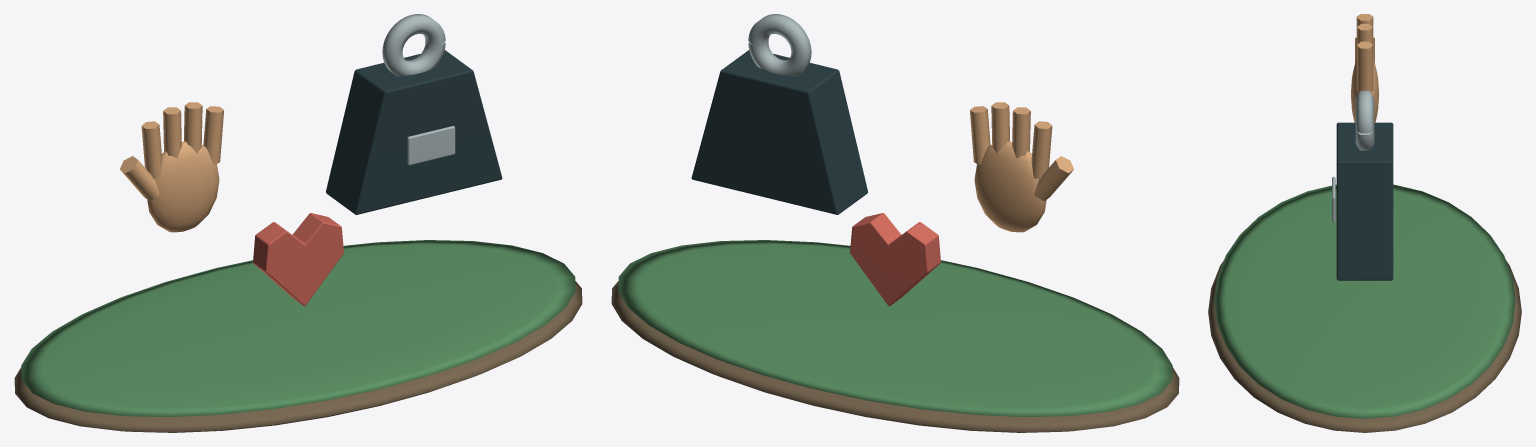
File: complete-first-effort-lift.glb
The picture shows the model from 3 angles, left to right: view 1: azimuth 30°, elevation 25°; view 2: azimuth 150°, elevation 25°; view 3: azimuth 270°, elevation 25°; orthographic projection. The views are drawn at different scales.
Parts seen in each view (by area): view 1: complete-first-effort-lift_surface_01, complete-first-effort-lift_surface_03, complete-first-effort-lift_surface_00, complete-first-effort-lift_surface_02, complete-first-effort-lift_surface_05, complete-first-effort-lift_surface_04; view 2: complete-first-effort-lift_surface_01, complete-first-effort-lift_surface_03, complete-first-effort-lift_surface_00, complete-first-effort-lift_surface_02, complete-first-effort-lift_surface_05, complete-first-effort-lift_surface_04; view 3: complete-first-effort-lift_surface_01, complete-first-effort-lift_surface_03, complete-first-effort-lift_surface_00, complete-first-effort-lift_surface_02, complete-first-effort-lift_surface_04.
Boxes of the visible parts, x1,y1,x2,y2 form: complete-first-effort-lift_surface_01: (21,240,575,417); complete-first-effort-lift_surface_03: (326,50,502,214); complete-first-effort-lift_surface_00: (14,281,582,432); complete-first-effort-lift_surface_02: (120,102,223,232); complete-first-effort-lift_surface_05: (253,213,343,306); complete-first-effort-lift_surface_04: (382,14,455,165); complete-first-effort-lift_surface_01: (618,240,1172,417); complete-first-effort-lift_surface_03: (691,50,867,214); complete-first-effort-lift_surface_00: (611,281,1179,432); complete-first-effort-lift_surface_02: (970,102,1073,232); complete-first-effort-lift_surface_05: (850,213,940,306); complete-first-effort-lift_surface_04: (748,14,811,76); complete-first-effort-lift_surface_01: (1214,184,1515,418); complete-first-effort-lift_surface_03: (1336,122,1393,280); complete-first-effort-lift_surface_00: (1208,260,1521,432); complete-first-effort-lift_surface_02: (1351,14,1378,122); complete-first-effort-lift_surface_04: (1332,90,1374,222).
Size of the model in its own units: 4.56 by 2.5 by 2.5.
